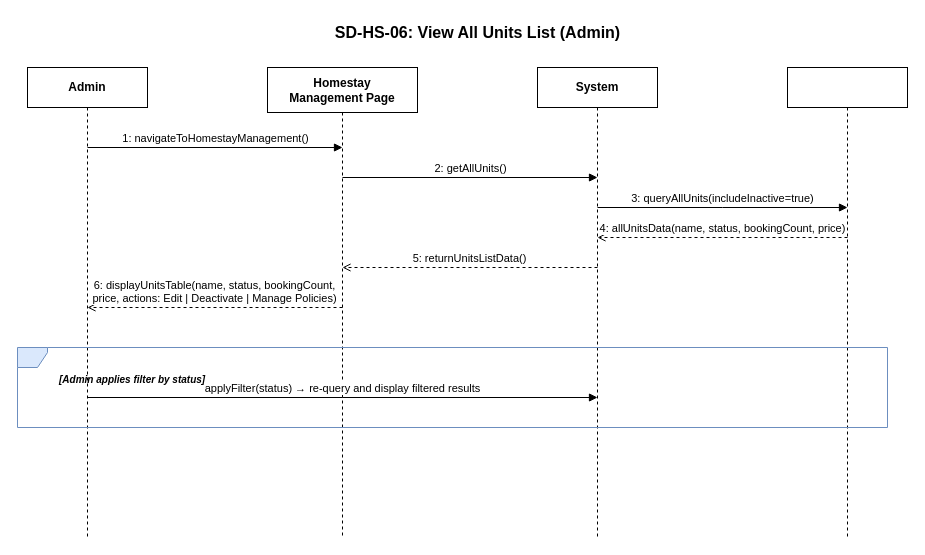
Image size: 925x555. Some labels were removed from this diagram. The box of each missing label's shape, as (x1, y1, x2, y2) in pixels:
Database: (786, 66, 908, 538)
opt: (16, 346, 888, 428)
